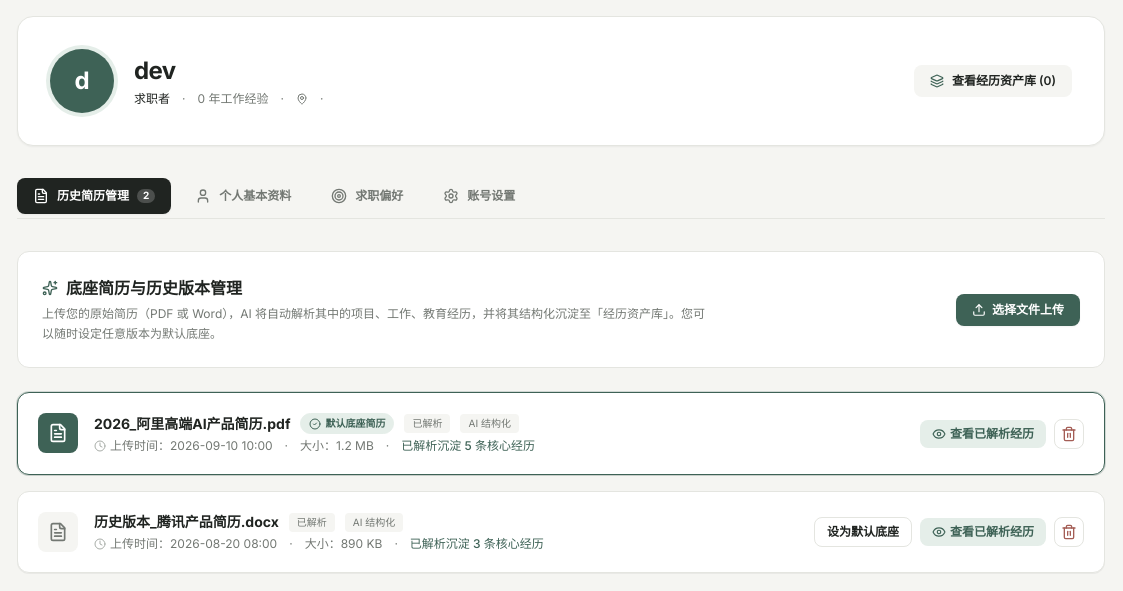
Test: FE-HISTORICAL-RESUMES-01 历史简历域迁移 › 删除：deleteBaseResume 成功后从列表移除，默认项保留
Expected: the text "历史版本_腾讯产品简历.docx" is shown, top-left (94, 512), bottom-right (279, 532)
Step 1. Click the button titled "删除此简历" in the row of "890 KB" → click(1069, 532), box top-left (1054, 517), bottom-right (1084, 547)
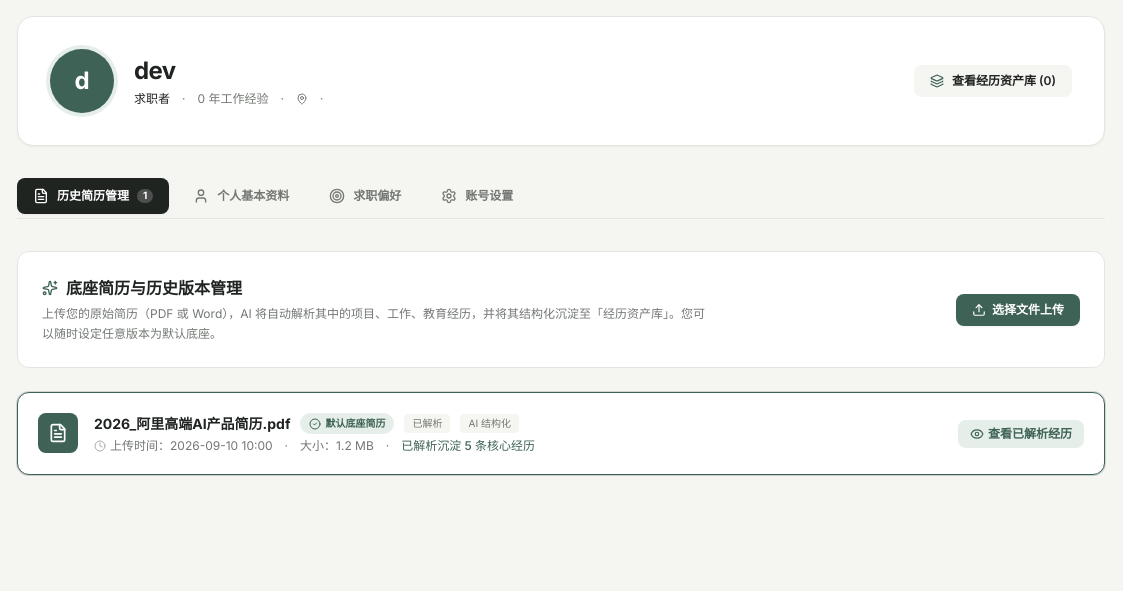
Expected: the text "2026_阿里高端AI产品简历.pdf" is shown, top-left (94, 414), bottom-right (290, 434)
Result: the text "历史版本_腾讯产品简历.docx" is gone
